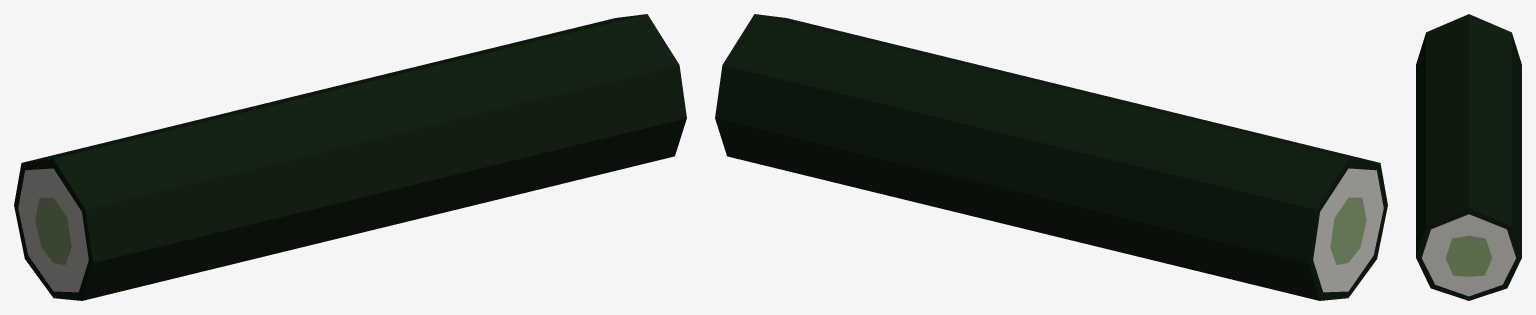
The model's file is hossomakiCocumberRoll.fbx.
3 renders of one model, left to right at view 1: azimuth 30°, elevation 25°; view 2: azimuth 150°, elevation 25°; view 3: azimuth 270°, elevation 25°, orthographic. The views are drawn at different scales.
Visible parts, largest first — view 1: hossomakiCocumberRoll; view 2: hossomakiCocumberRoll; view 3: hossomakiCocumberRoll.
Boxes of the visible parts, <box> form: hossomakiCocumberRoll: <box>14,14,686,300</box>; hossomakiCocumberRoll: <box>715,14,1387,300</box>; hossomakiCocumberRoll: <box>1416,14,1521,300</box>.
Bounding box in the file's own units: 26.4 × 5.92 × 6.08.
Materials: 1 (1 with a texture image).
